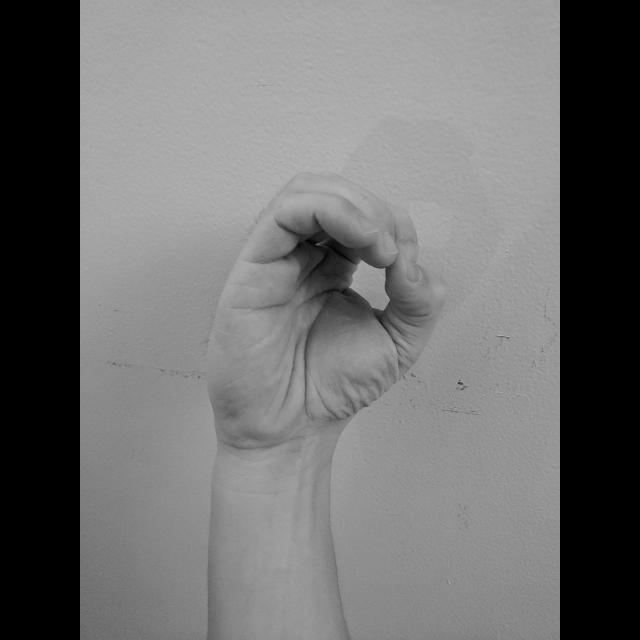O: (200, 167, 452, 453)
